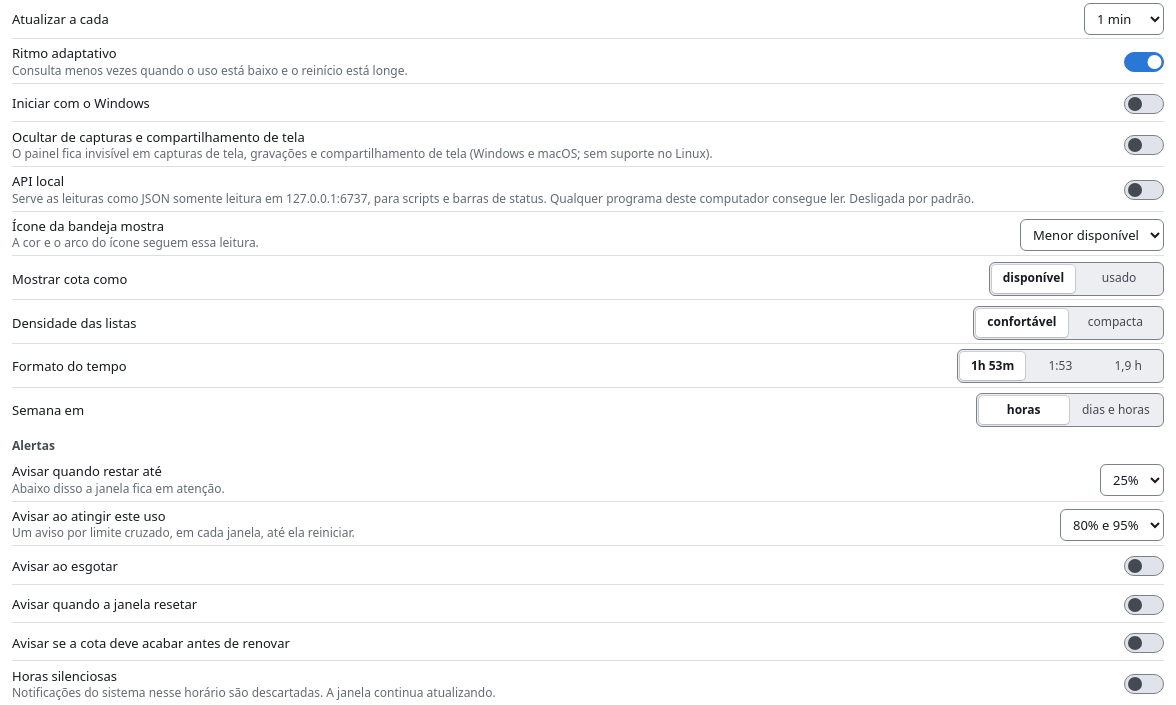
Test: quiet hours › shows the two times only while the window is on
The image size is (1176, 705).
(page scrolled)
Check: the field labelled "Silenciar a partir de" is not shown
Click the switch labelled "Horas silenciosas" at (1144, 684), box [1124, 674, 1164, 694]
(page scrolled)
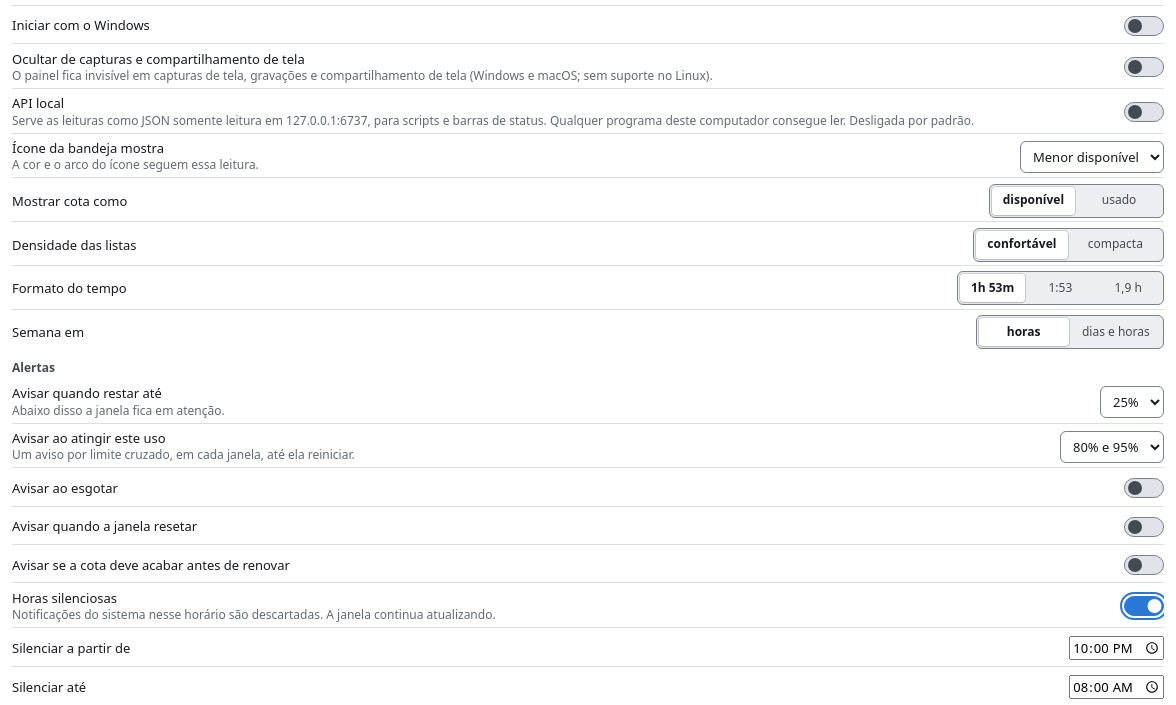
Check: the time field labelled "Silenciar a partir de" holds "22:00", box [1069, 636, 1164, 660]
Check: the time field labelled "Silenciar até" holds "08:00", box [1069, 675, 1164, 699]
